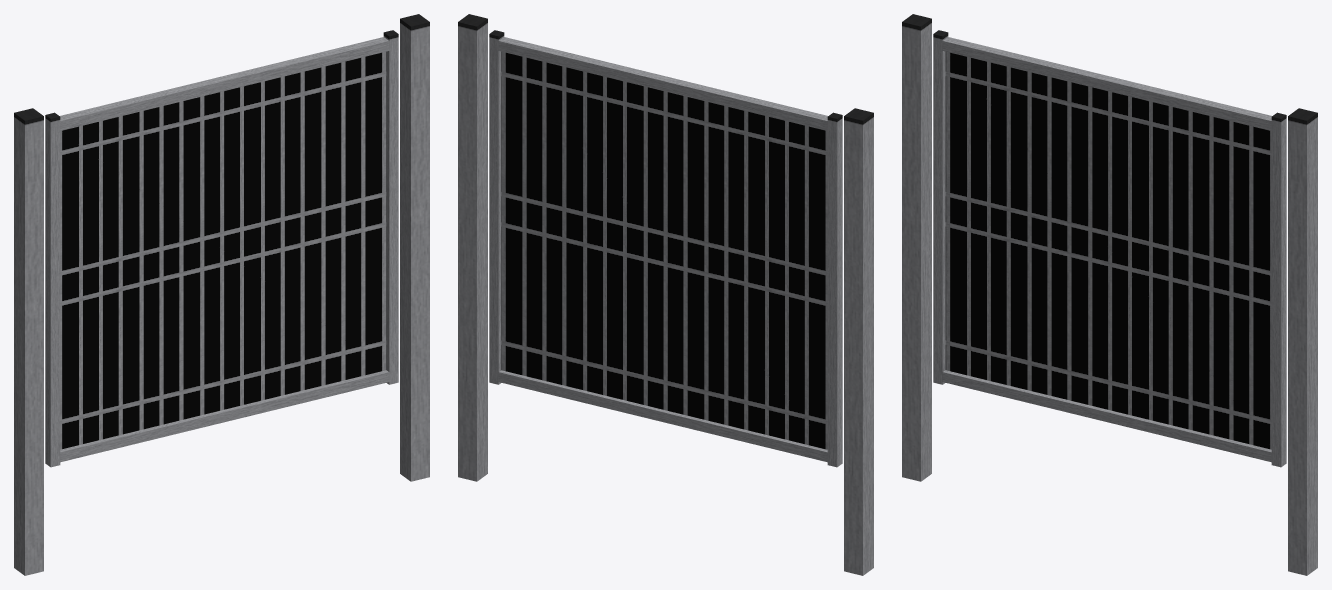
File: fence-mesh-grey-gate-1p2m-cbj_LOD01.gltf
3 views of the same model, side by side, from view 1: azimuth 30°, elevation 25°; view 2: azimuth 150°, elevation 25°; view 3: azimuth 330°, elevation 25° (orthographic).
Visible parts, largest first — view 1: post.003; view 2: post.003; view 3: post.003.
Boxes of the visible parts, <box> form: post.003: <box>14,14,429,575</box>; post.003: <box>458,14,873,575</box>; post.003: <box>902,14,1317,575</box>.
Size of the model in its own units: 1.49 by 1.6 by 0.07.
